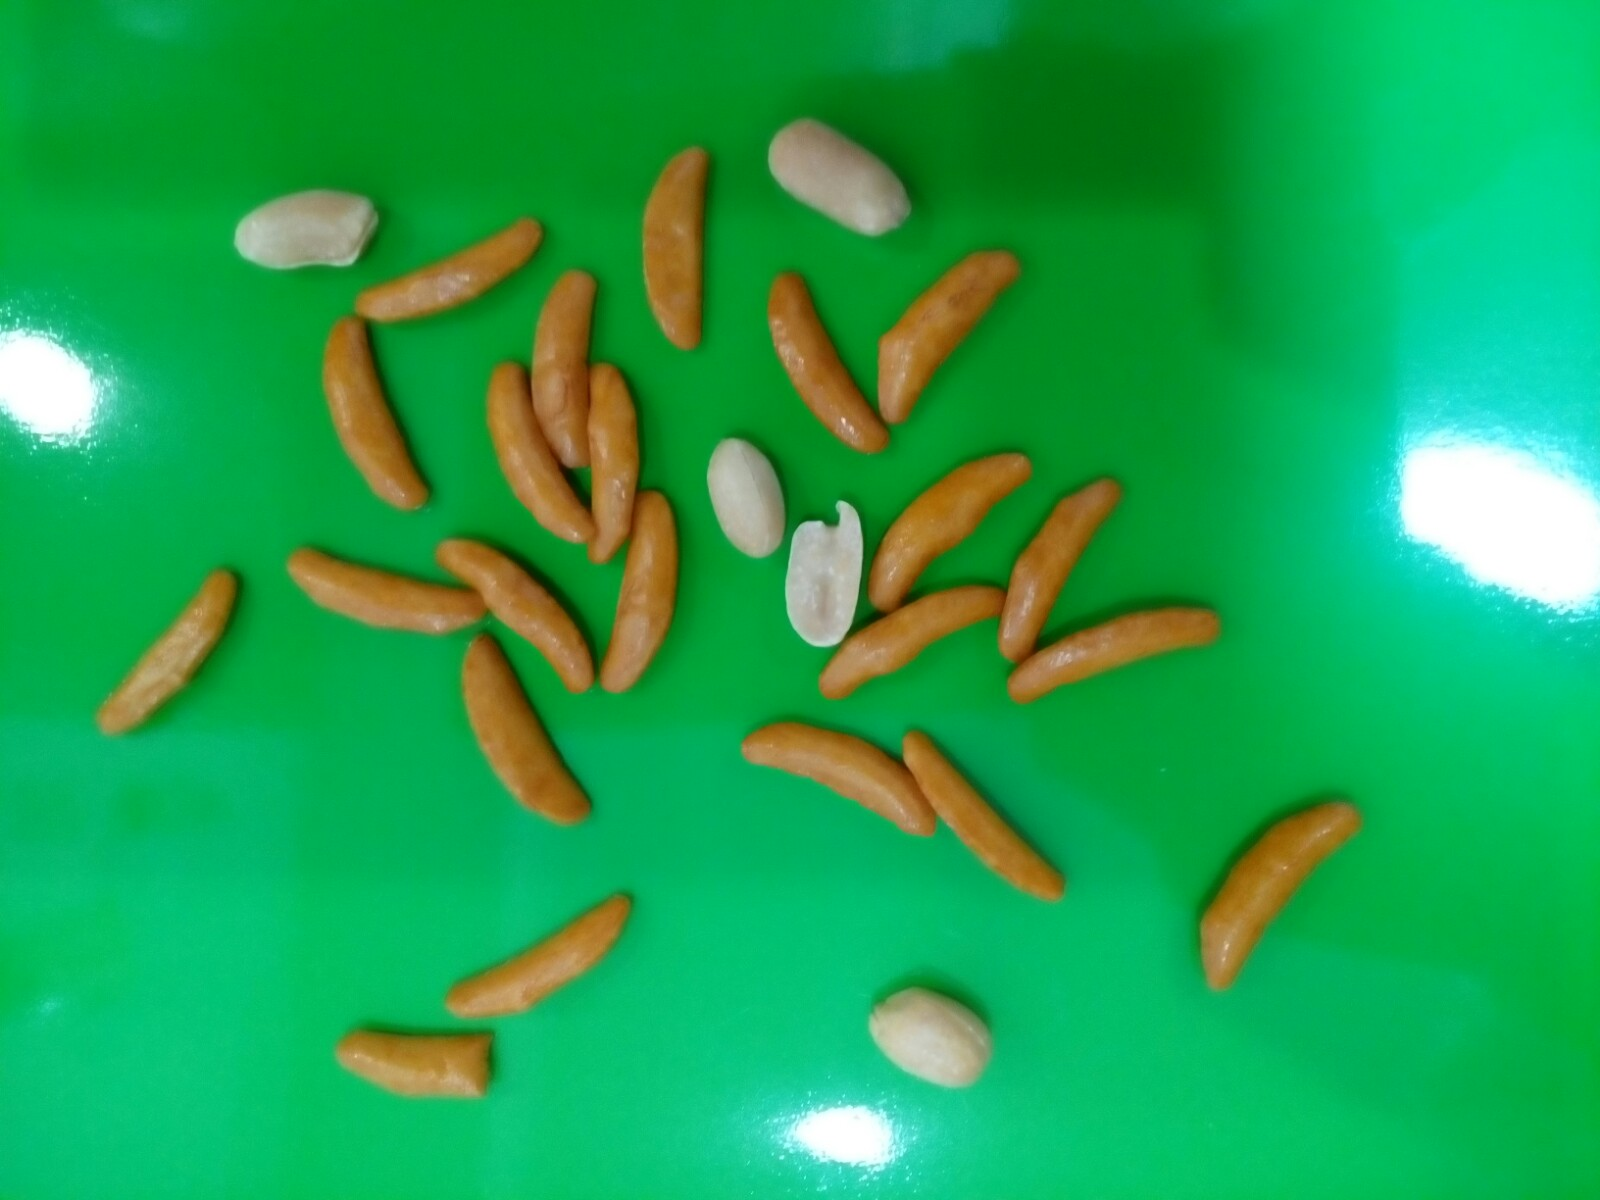peanut: (753, 108, 921, 246), (860, 969, 1007, 1100), (227, 179, 386, 277), (784, 493, 871, 645), (700, 429, 794, 561)
